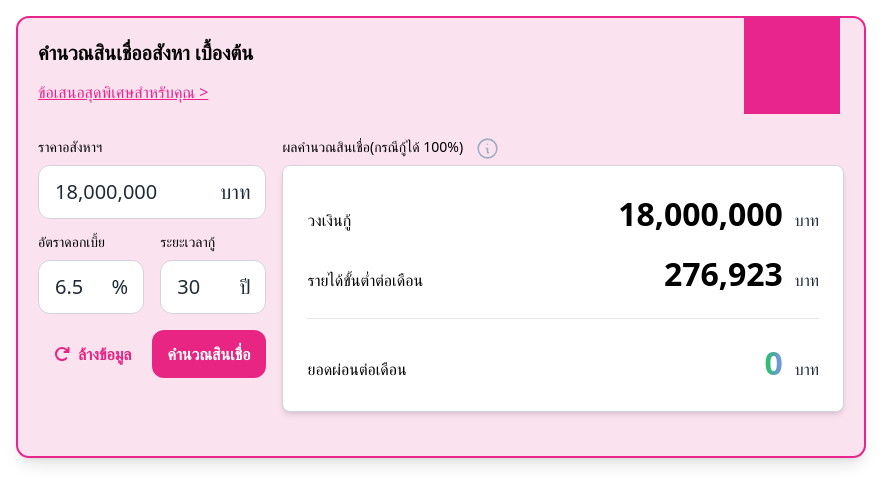
Test: คอมโพเนนต์ Calculator › ตรวจสอบการป้อนระยะเวลากู้
This screenshot has width=883, height=494.
Replace the text in the field named "ระยะเวลากู้" with "2" at {"x": 213, "y": 287}, box x1=160 y1=260 x2=266 y2=314
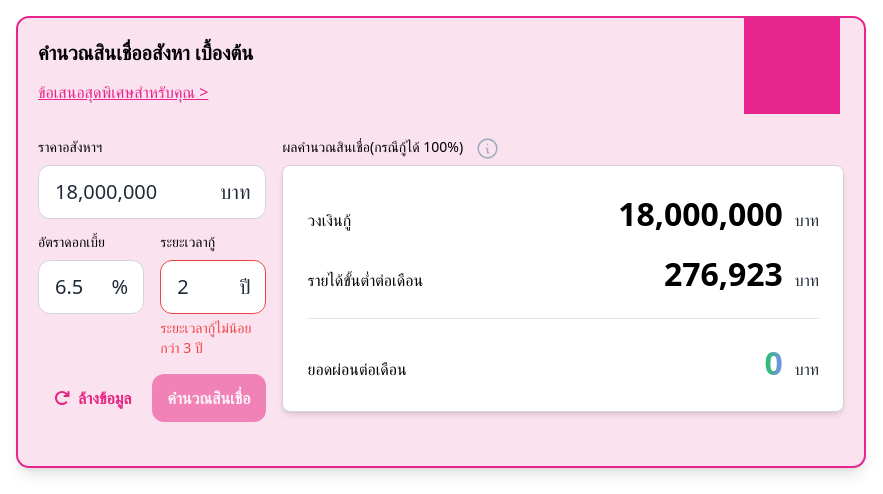
Now the text "ระยะเวลากู้ไม่น้อยกว่า 3 ปี" is shown, box x1=160 y1=318 x2=266 y2=358
